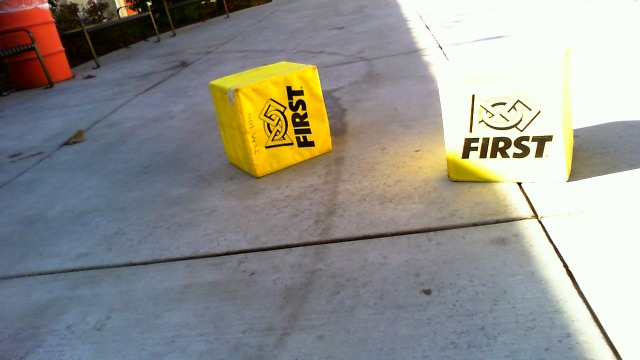cube: (436, 45, 576, 189), (207, 60, 334, 181)
